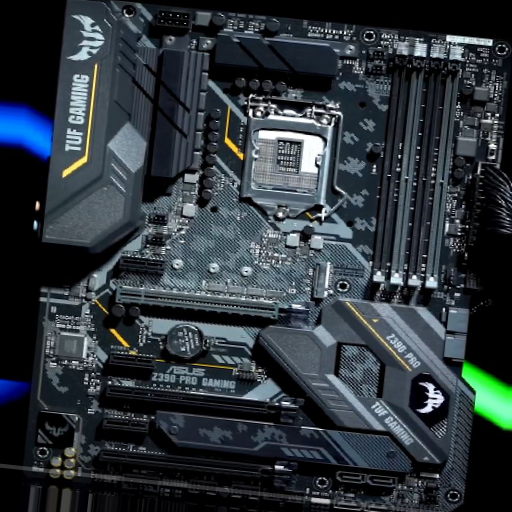CPU: (240, 95, 336, 221)
GPU: (105, 382, 304, 425), (99, 447, 296, 488), (114, 285, 311, 325)
MOTHERBOARD: (32, 7, 504, 511)
RAM: (369, 54, 464, 288)
SSD: (309, 261, 333, 299)
